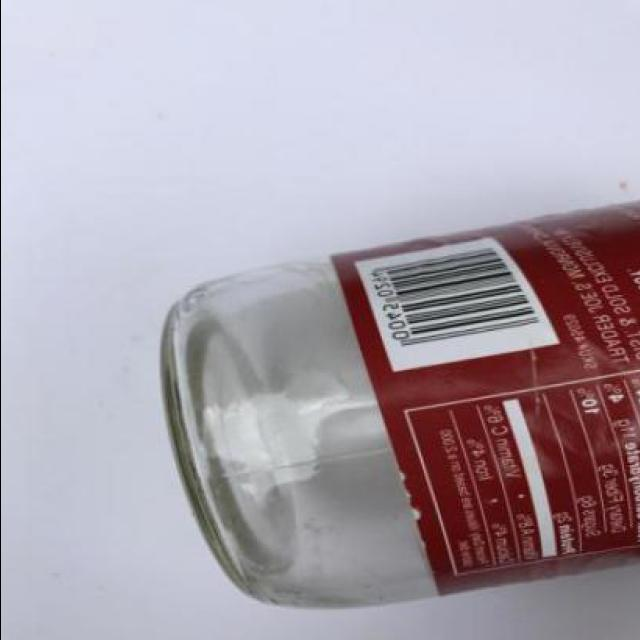kaca: (157, 195, 640, 608)
